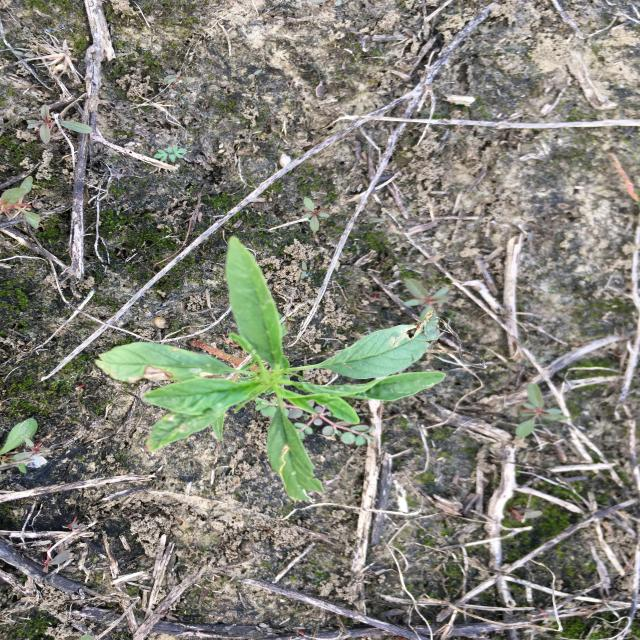Waterhemp: (92, 234, 449, 504)
